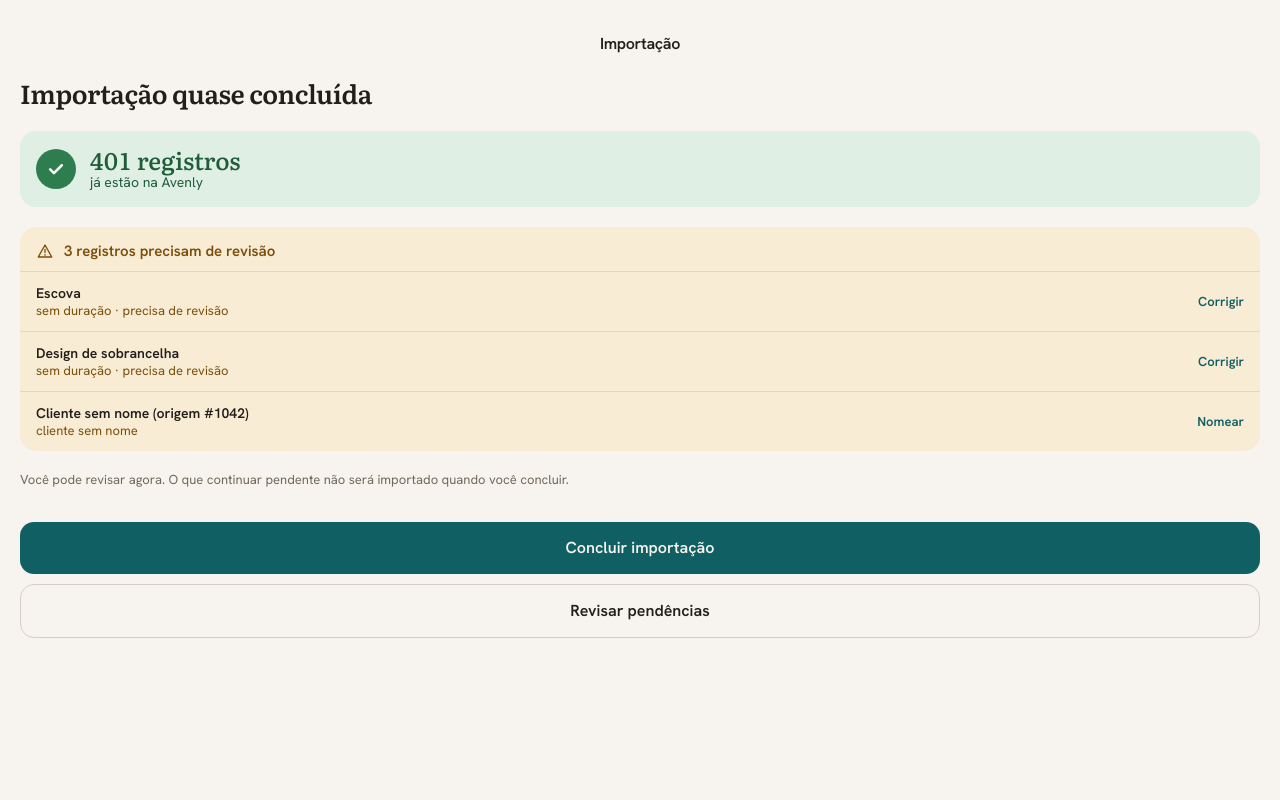
Test case: 2.I8 na moldura platform › 'Revisar pendências' abre a lista única dos itens em revisão
Click the button "Revisar pendências": {"x": 640, "y": 611} [20,584,1260,638]
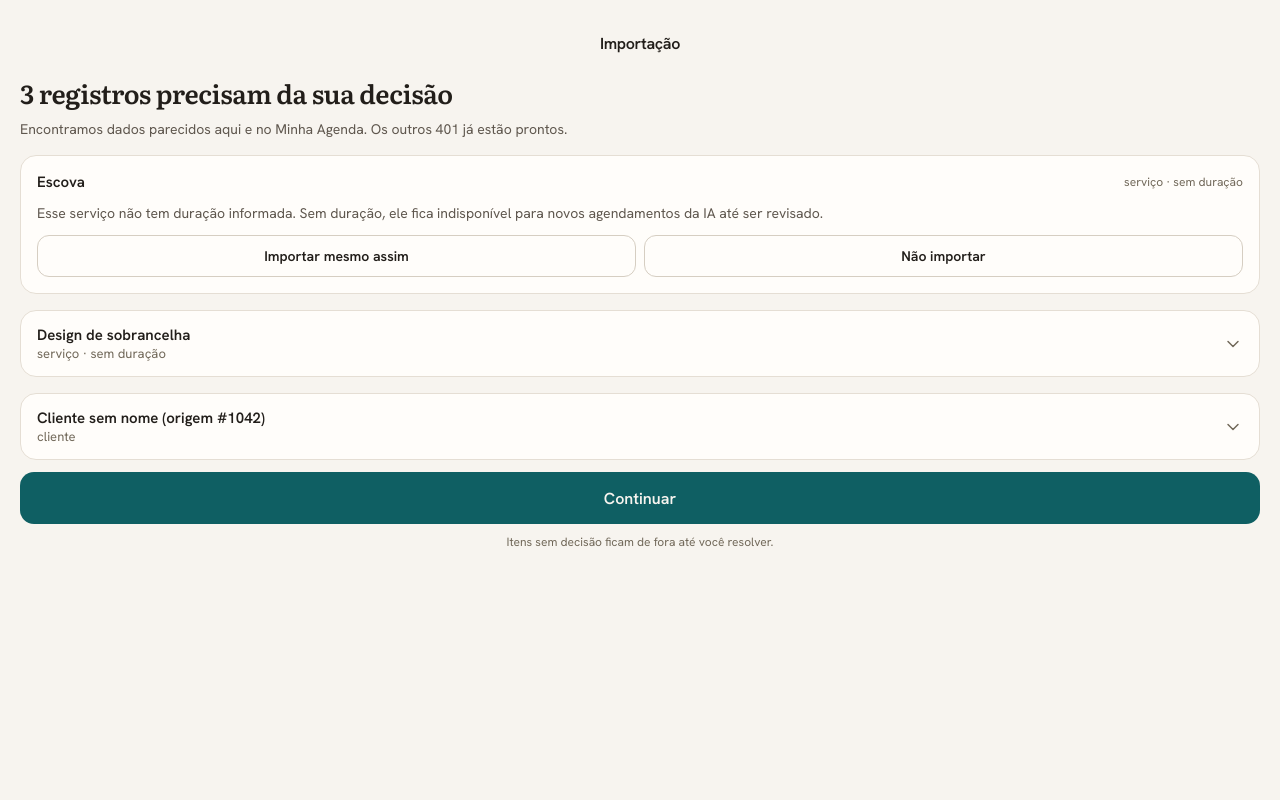
Expected: the text "Escova" is shown, [37,172,85,192]
Result: the heading "3 registros precisam da sua decisão" is shown at [20,73,453,112]
